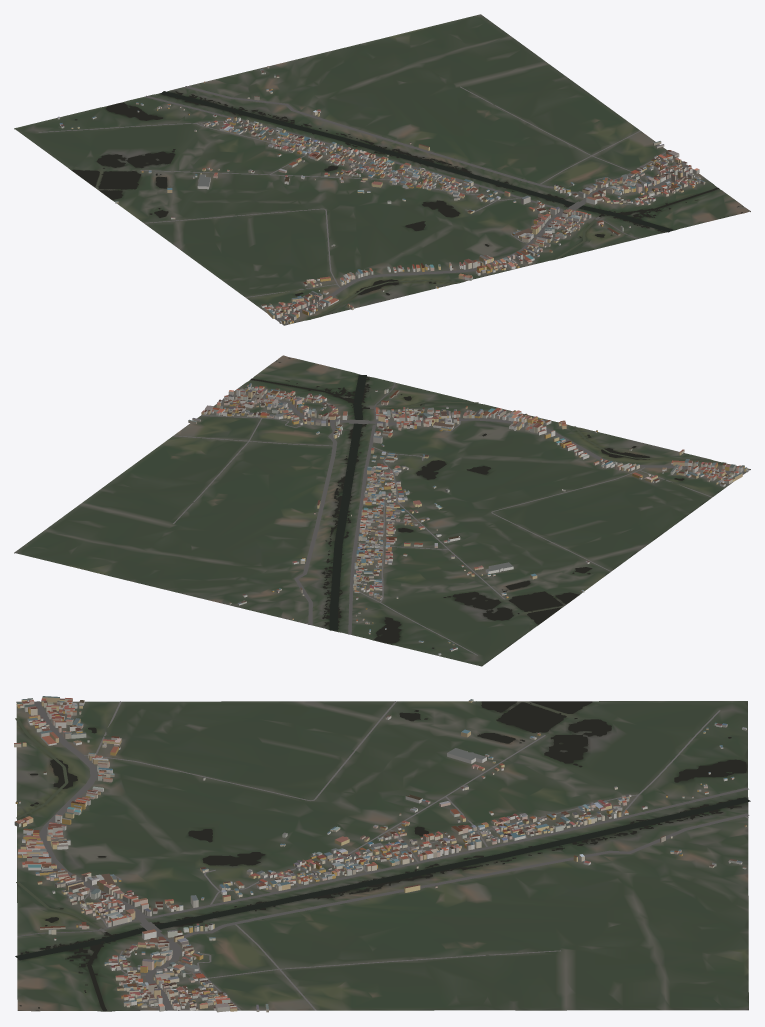
The picture shows the model from 3 angles, top to bottom: view 1: azimuth 30°, elevation 25°; view 2: azimuth 150°, elevation 25°; view 3: azimuth 270°, elevation 25°; orthographic projection. The views are drawn at different scales.
Visible parts, largest first — view 1: ground, buildings, water, roads; view 2: ground, buildings, water, roads; view 3: ground, buildings, water, roads.
Part boxes in pixels (x1,y1,x2,y2): ground: (14,14,750,325); buildings: (57,66,705,323); water: (72,91,743,319); roads: (38,85,696,324); ground: (14,355,750,666); buildings: (188,383,748,655); water: (250,357,725,648); roads: (173,382,744,655); ground: (16,701,748,1011); buildings: (14,696,746,1012); water: (15,701,750,1011); roads: (17,701,749,1010).
Size of the model in its own units: 1414 by 23.01 by 1413.
